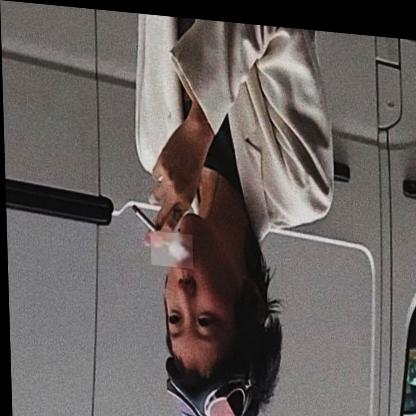smoke: (149, 228, 191, 265)
